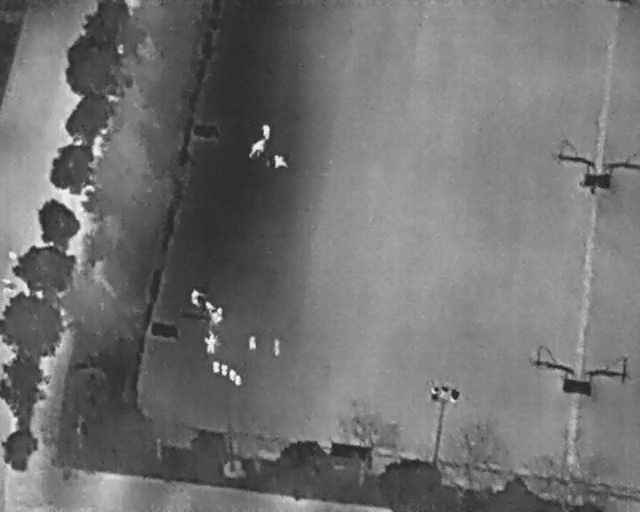Person: (243, 132, 271, 163), (204, 303, 227, 331), (204, 332, 219, 356), (200, 297, 218, 314), (272, 154, 289, 170), (190, 288, 203, 307), (273, 338, 283, 358), (261, 124, 271, 140), (247, 335, 257, 351)
